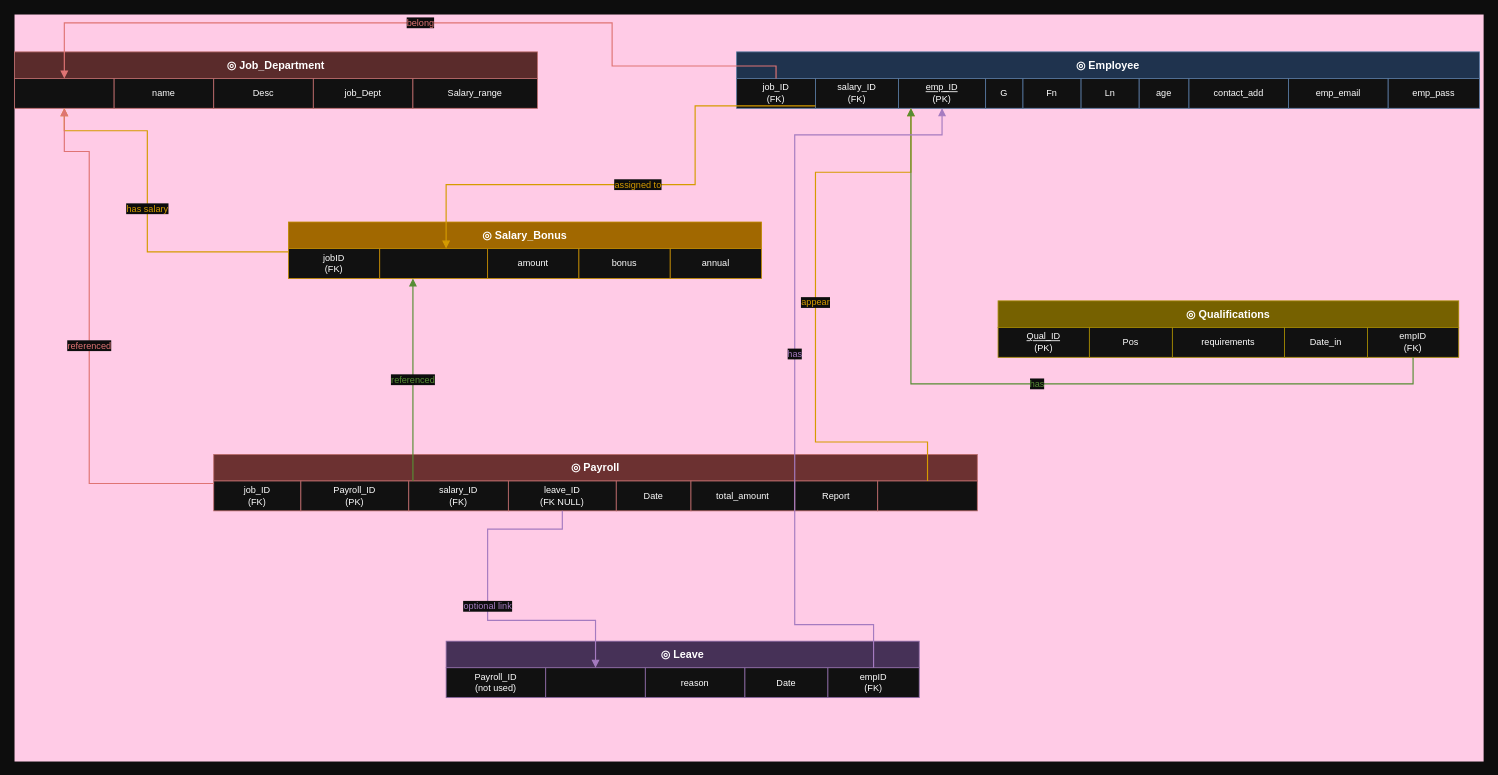
The diagram is 1498 pixels wide and 775 high, and some of its shapes have lost their labels. Here are the shapes that lost their labels. From the top down, the centre of each, then its label:
At (x=64, y=93): "job_ID (PK)".
At (x=433, y=263): "Salary_ID (PK)".
At (x=927, y=495): "emp_ID (FK)".
At (x=595, y=682): "Leave_ID (PK)".
